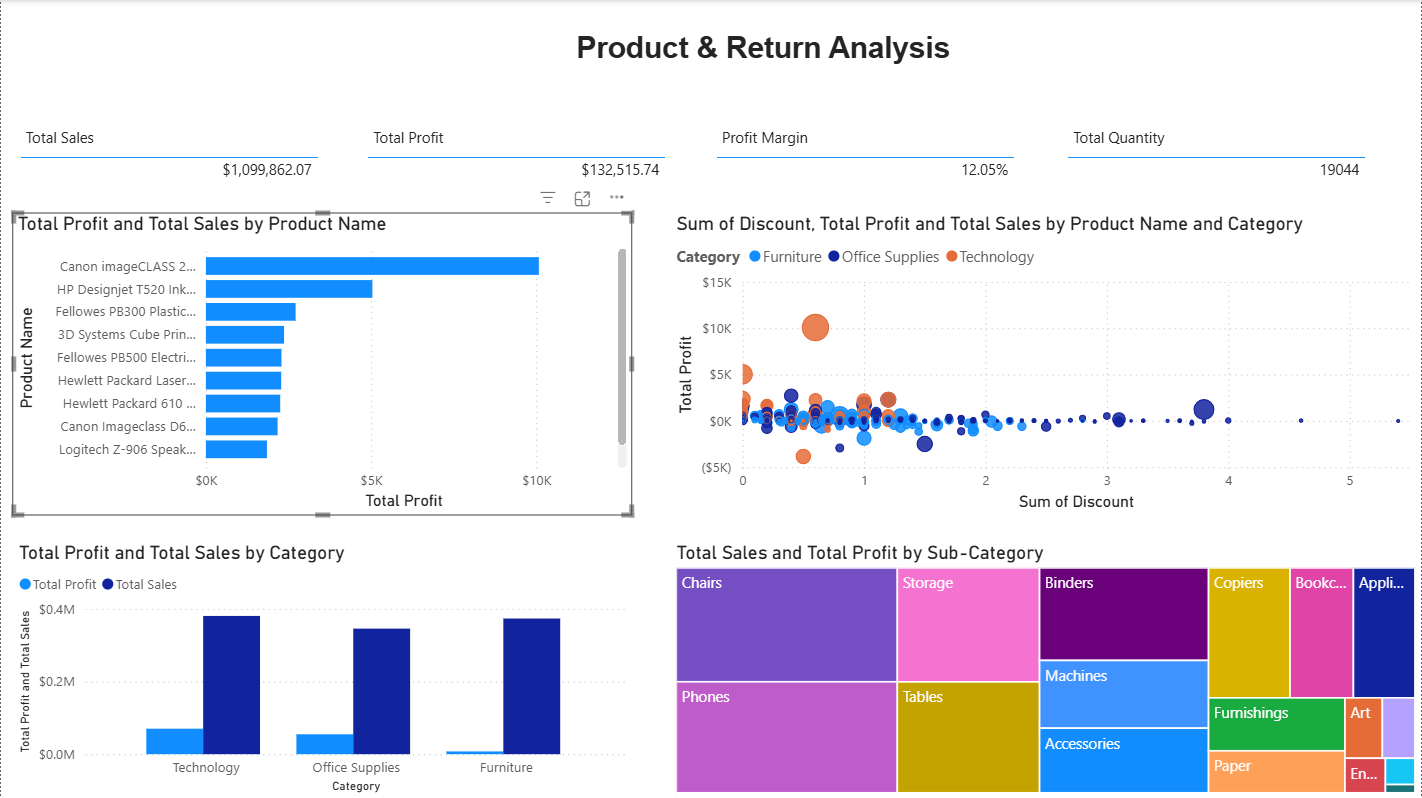

The page's visual inventory and layout, read from the dashboard file:
{"tool":"powerbi","page":{"name":"Product & Return Analysis","canvas":[1280,720],"ordinal":2},"visuals":[{"type":"tableEx","fields":{"Values":["_Measures.Total Sales"]},"box":[11.3,107.8,279.6,84],"z":0},{"type":"tableEx","fields":{"Values":["_Measures.Total Profit"]},"box":[324.8,107.8,279.6,84],"z":1000},{"type":"tableEx","fields":{"Values":["_Measures.Profit Margin"]},"box":[639.5,107.8,279.6,84],"z":2000},{"type":"tableEx","fields":{"Values":["_Measures.Total Quantity"]},"box":[955.5,107.8,279.6,84],"z":3000},{"type":"clusteredBarChart","fields":{"Category":["DimProduct.Product Name"],"Y":["_Measures.Total Profit"]},"box":[10,191.9,559.2,273.4],"z":4000},{"type":"clusteredColumnChart","fields":{"Category":["DimProduct.Category"],"Y":["_Measures.Total Profit","_Measures.Total Sales"]},"box":[11,488,558,232],"z":5000},{"type":"scatterChart","fields":{"Category":["DimProduct.Product Name"],"X":["Sum(Sample - Superstore.Discount)"],"Y":["_Measures.Total Profit"],"Size":["_Measures.Total Sales"],"Series":["DimProduct.Category"]},"box":[604.4,191.9,675.9,273.4],"z":6000},{"type":"treemap","fields":{"Group":["DimProduct.Sub-Category"],"Values":["_Measures.Total Sales"]},"box":[604,488,676,232],"z":7000},{"type":"textbox","box":[514.1,23.8,352.4,46.4],"z":7001}]}

Visuals, with their boxes in screenshot pixels (x1, y1, x2, y2), scaled from the page's 1280x720 canvas onto the 1422x798 screenshot:
tableEx - _Measures.Total Sales: (left=13, top=119, right=323, bottom=213)
tableEx - _Measures.Total Profit: (left=361, top=119, right=671, bottom=213)
tableEx - _Measures.Profit Margin: (left=710, top=119, right=1021, bottom=213)
tableEx - _Measures.Total Quantity: (left=1062, top=119, right=1372, bottom=213)
clusteredBarChart - DimProduct.Product Name x _Measures.Total Profit: (left=11, top=213, right=632, bottom=516)
clusteredColumnChart - DimProduct.Category x _Measures.Total Profit: (left=12, top=541, right=632, bottom=797)
scatterChart - DimProduct.Product Name x Sum(Sample - Superstore.Discount): (left=671, top=213, right=1421, bottom=516)
treemap - DimProduct.Sub-Category x _Measures.Total Sales: (left=671, top=541, right=1421, bottom=797)
textbox: (left=571, top=26, right=963, bottom=78)
